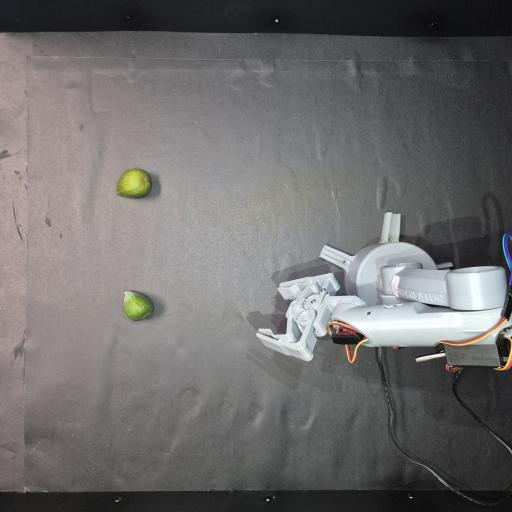higo: (115, 169, 151, 197), (124, 291, 154, 321)
